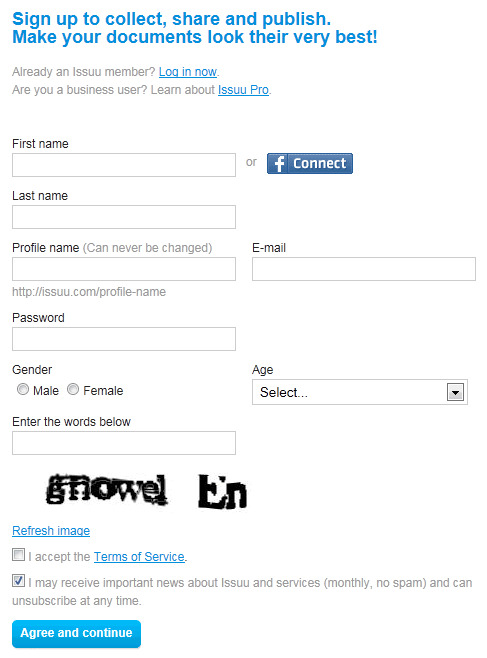_form_: (227, 68, 487, 427), (1, 297, 259, 656), (1, 1, 259, 359)
button: (11, 619, 143, 648), (266, 153, 353, 175)
checkbox: (11, 571, 29, 591), (10, 545, 27, 563)
checkbox_with_label: (7, 569, 472, 594), (249, 363, 469, 408), (7, 543, 185, 564)
field: (7, 428, 236, 456), (6, 203, 237, 230), (9, 151, 236, 178), (8, 255, 237, 281), (10, 326, 236, 351), (249, 256, 475, 281)
field_with_label: (2, 188, 239, 232), (7, 137, 238, 180), (5, 241, 239, 283), (7, 311, 238, 353), (4, 416, 238, 457), (248, 242, 477, 283)
radio: (16, 383, 33, 397), (66, 383, 82, 397)
radio_with_label: (63, 379, 124, 398), (11, 379, 59, 399)
select: (251, 379, 467, 406)
